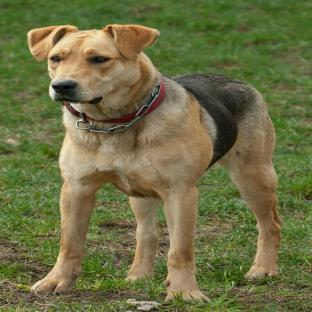Animal: (28, 24, 282, 302)
